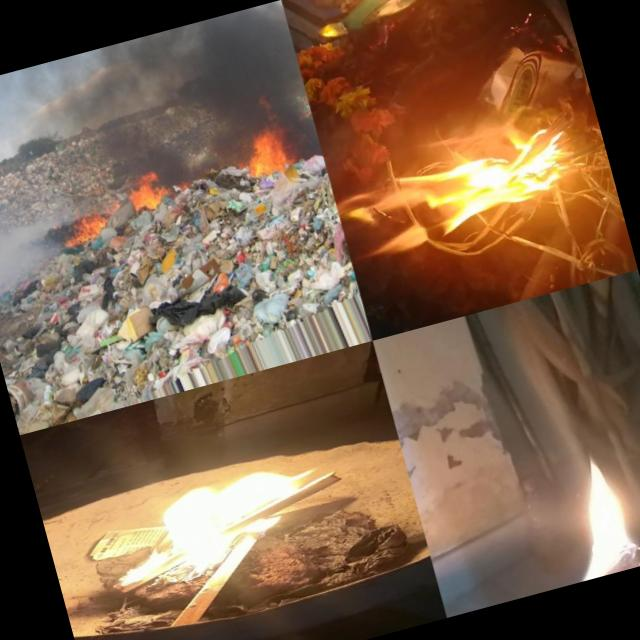fire: (78, 451, 340, 602), (522, 443, 640, 589), (61, 190, 120, 251), (116, 162, 178, 220), (237, 121, 291, 186), (398, 294, 459, 332)
smoke: (0, 0, 311, 198), (0, 199, 68, 300), (166, 133, 247, 187), (278, 114, 325, 172)
